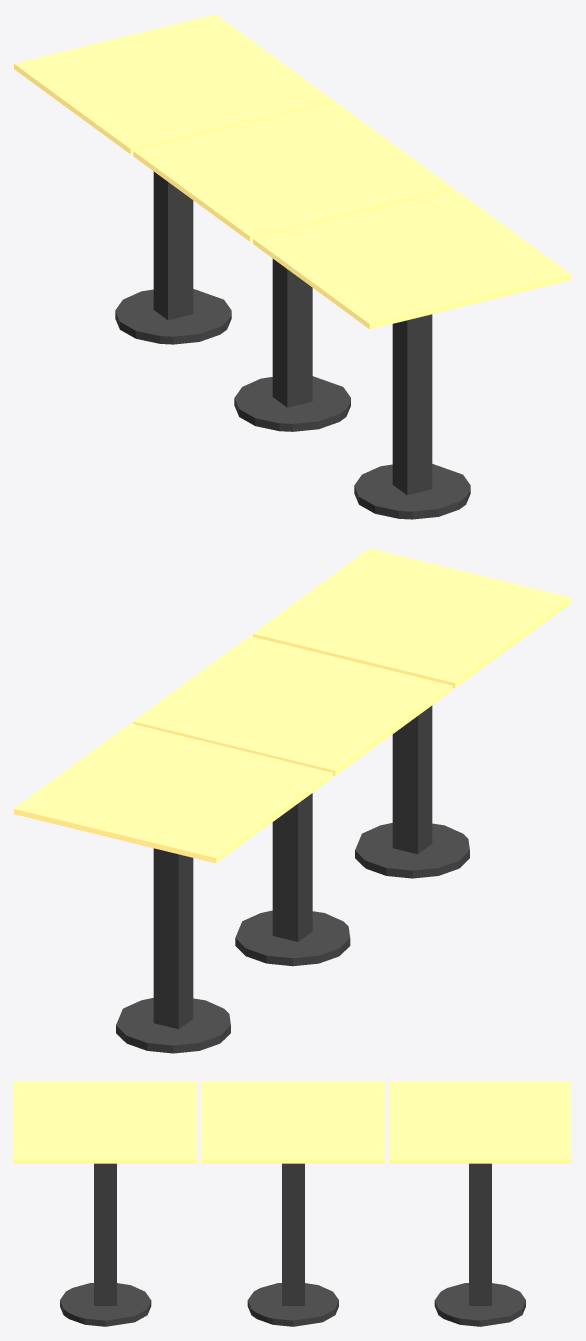
The picture shows the model from 3 angles, top to bottom: view 1: azimuth 30°, elevation 25°; view 2: azimuth 150°, elevation 25°; view 3: azimuth 270°, elevation 25°; orthographic projection. The views are drawn at different scales.
Visible parts, largest first — view 1: Table1, Table1_001, Table1_002; view 2: Table1_002, Table1, Table1_001; view 3: Table1_002, Table1_001, Table1.
Boxes of the visible parts, box(x1,y1,x2,y2) form: Table1: box(253, 189, 571, 519); Table1_001: box(133, 101, 452, 431); Table1_002: box(14, 14, 332, 344); Table1_002: box(14, 723, 332, 1053); Table1: box(253, 548, 571, 878); Table1_001: box(133, 636, 452, 966); Table1_002: box(389, 1082, 571, 1326); Table1_001: box(202, 1082, 384, 1326); Table1: box(14, 1082, 196, 1326).
Bounding box in the file's own units: 0.8 × 2.44 × 0.9.
